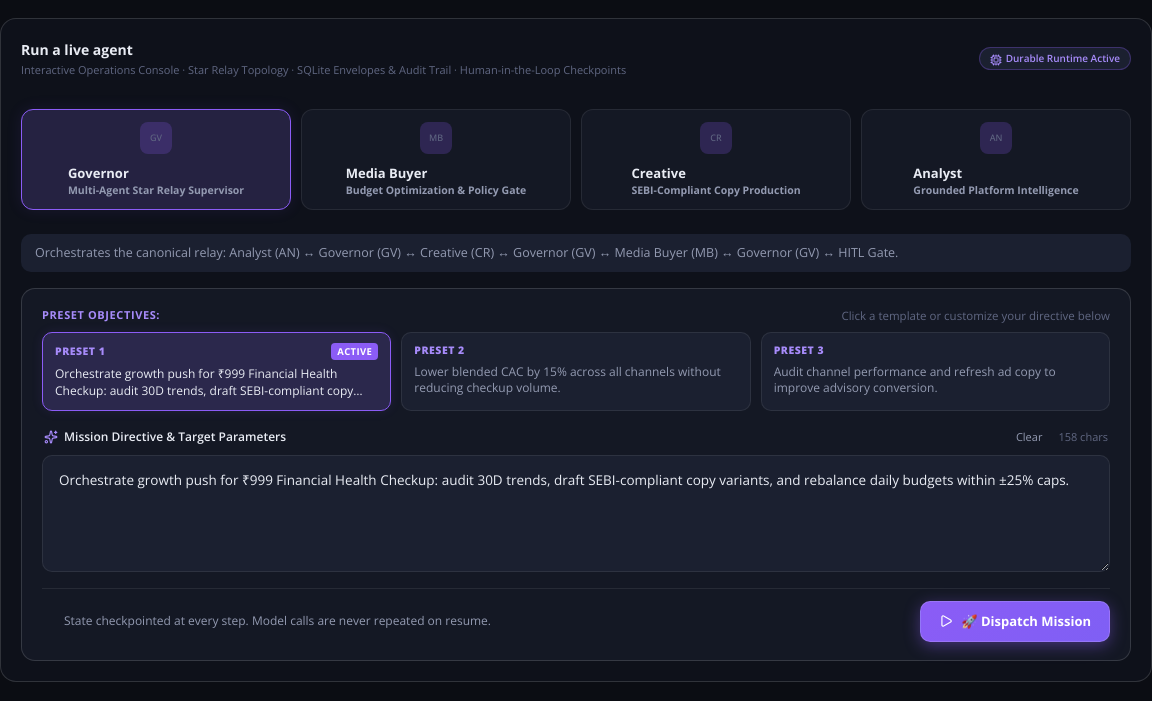
Test: AgentConsole - Star Relay & Envelopes › clicking an envelope row opens the typed Envelope Inspector Drawer
This screenshot has width=1152, height=701.
Click the button with aria-label "Start Governor Run".
click(1015, 621)  # box [920, 601, 1110, 642]
(page scrolled)
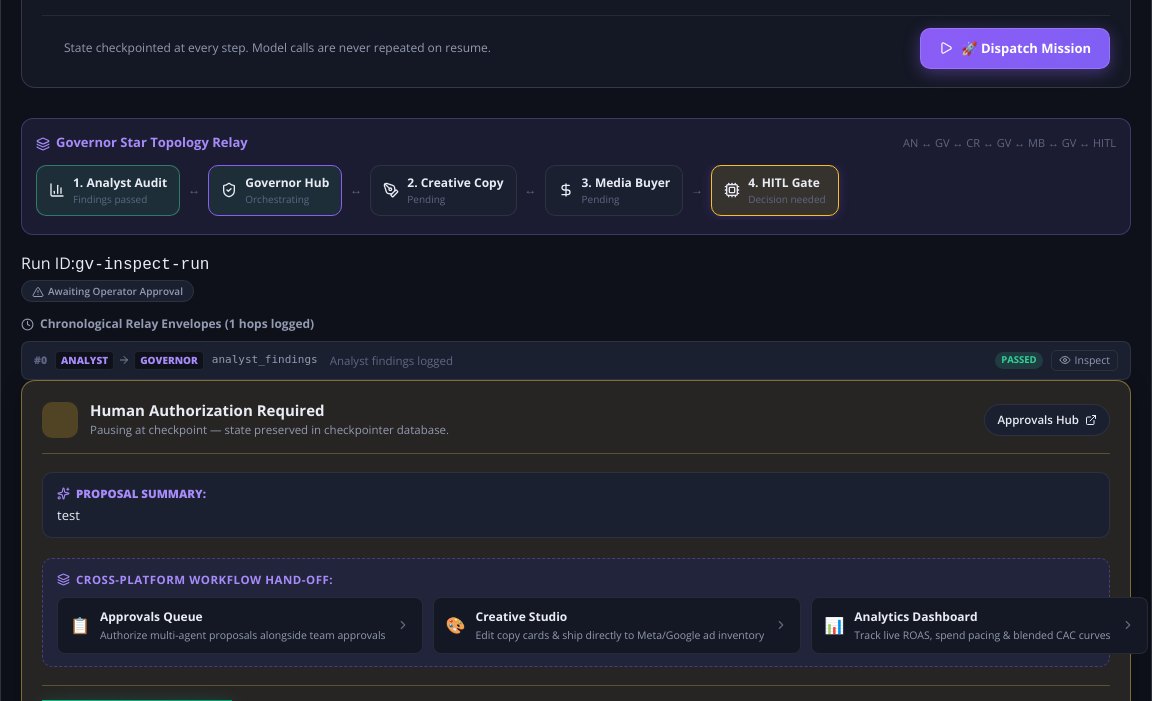
Click the button "Inspect".
click(1084, 360)  # box [1050, 350, 1118, 371]
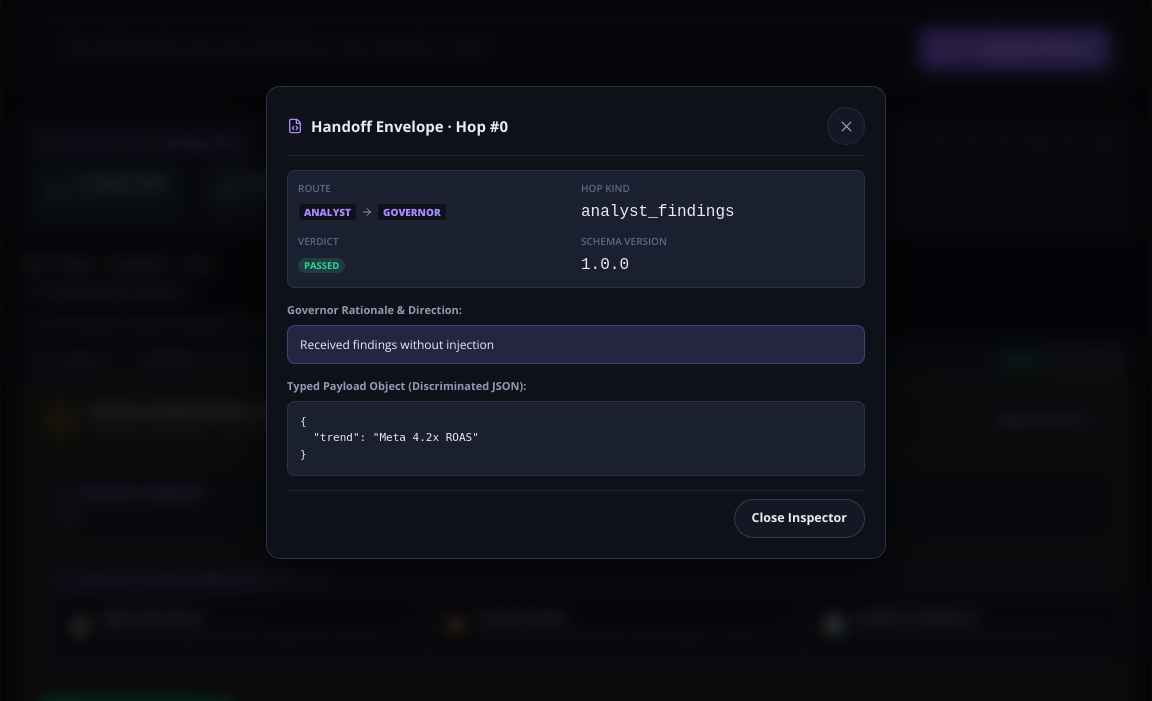
Now the heading "Handoff Envelope · Hop #0" is shown, box [311, 115, 508, 138]
Now the text "Received findings without injection" is shown, box [287, 325, 865, 364]
Now the text "{ \"trend\": \"Meta 4.2x ROAS\" }" is shown, box [287, 401, 865, 476]
Close Inspector
Click the button "Close Inspector".
click(799, 519)  # box [734, 499, 865, 538]
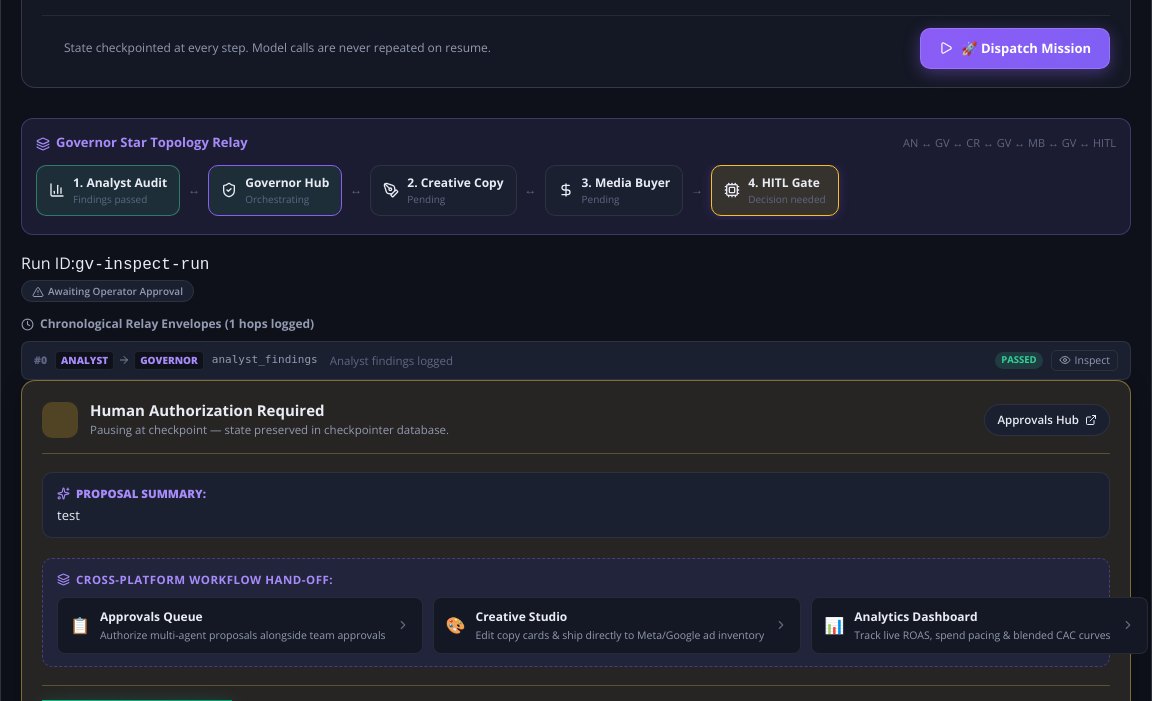
Now the heading "Handoff Envelope · Hop #0" is gone
